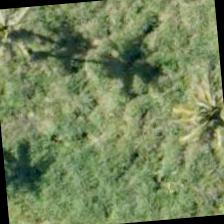Kelapa_Sawit: (162, 56, 223, 152), (0, 6, 46, 82)
